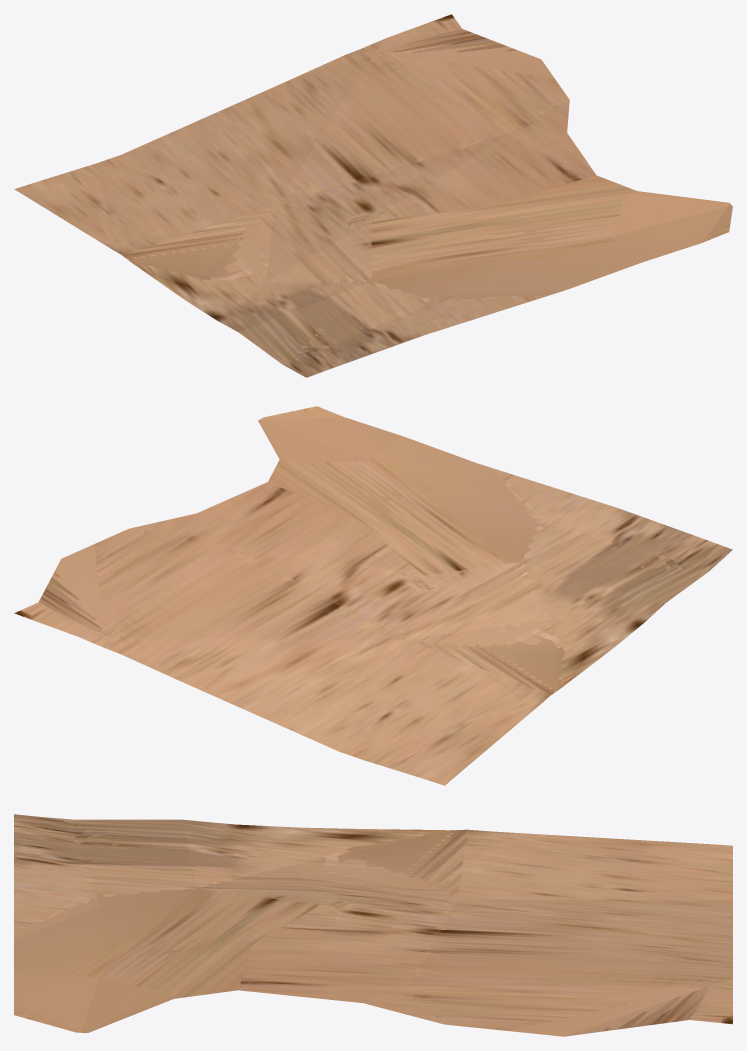
3 views of the same model, one above another, from view 1: azimuth 30°, elevation 25°; view 2: azimuth 150°, elevation 25°; view 3: azimuth 270°, elevation 25° (orthographic). The views are drawn at different scales.
Size of the model in its own units: 1.89 by 0.2694 by 2.09.
Materials: 2 (2 with a texture image).
